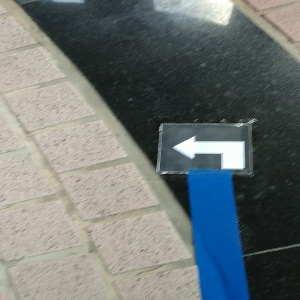left: (156, 122, 252, 174)
